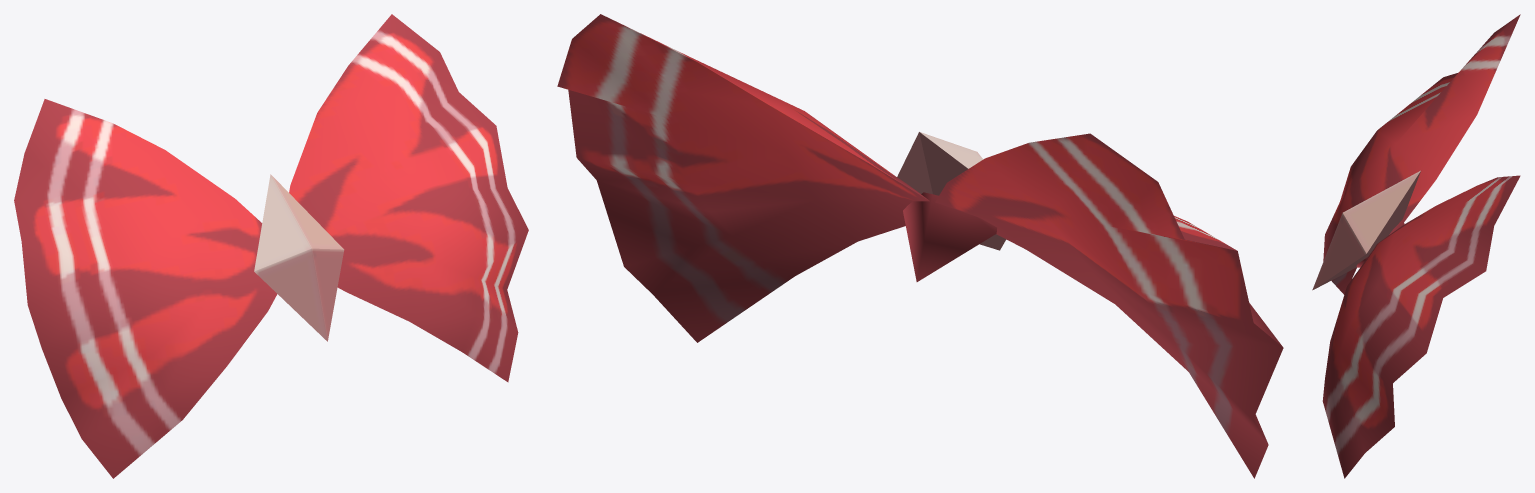
The model's file is AgnesDigitalCasualRibbonGround.fbx.
The picture shows the model from 3 angles, left to right: view 1: azimuth 30°, elevation 25°; view 2: azimuth 150°, elevation 25°; view 3: azimuth 270°, elevation 25°; orthographic projection. The views are drawn at different scales.
Visible parts, largest first — view 1: M_Hair.002; view 2: M_Hair.002; view 3: M_Hair.002.
Part boxes in pixels (<box>): M_Hair.002: <box>14,14,528,478</box>; M_Hair.002: <box>557,14,1283,478</box>; M_Hair.002: <box>1312,14,1520,478</box>.
Size of the model in its own units: 0.1338 by 0.0805 by 0.0521.
